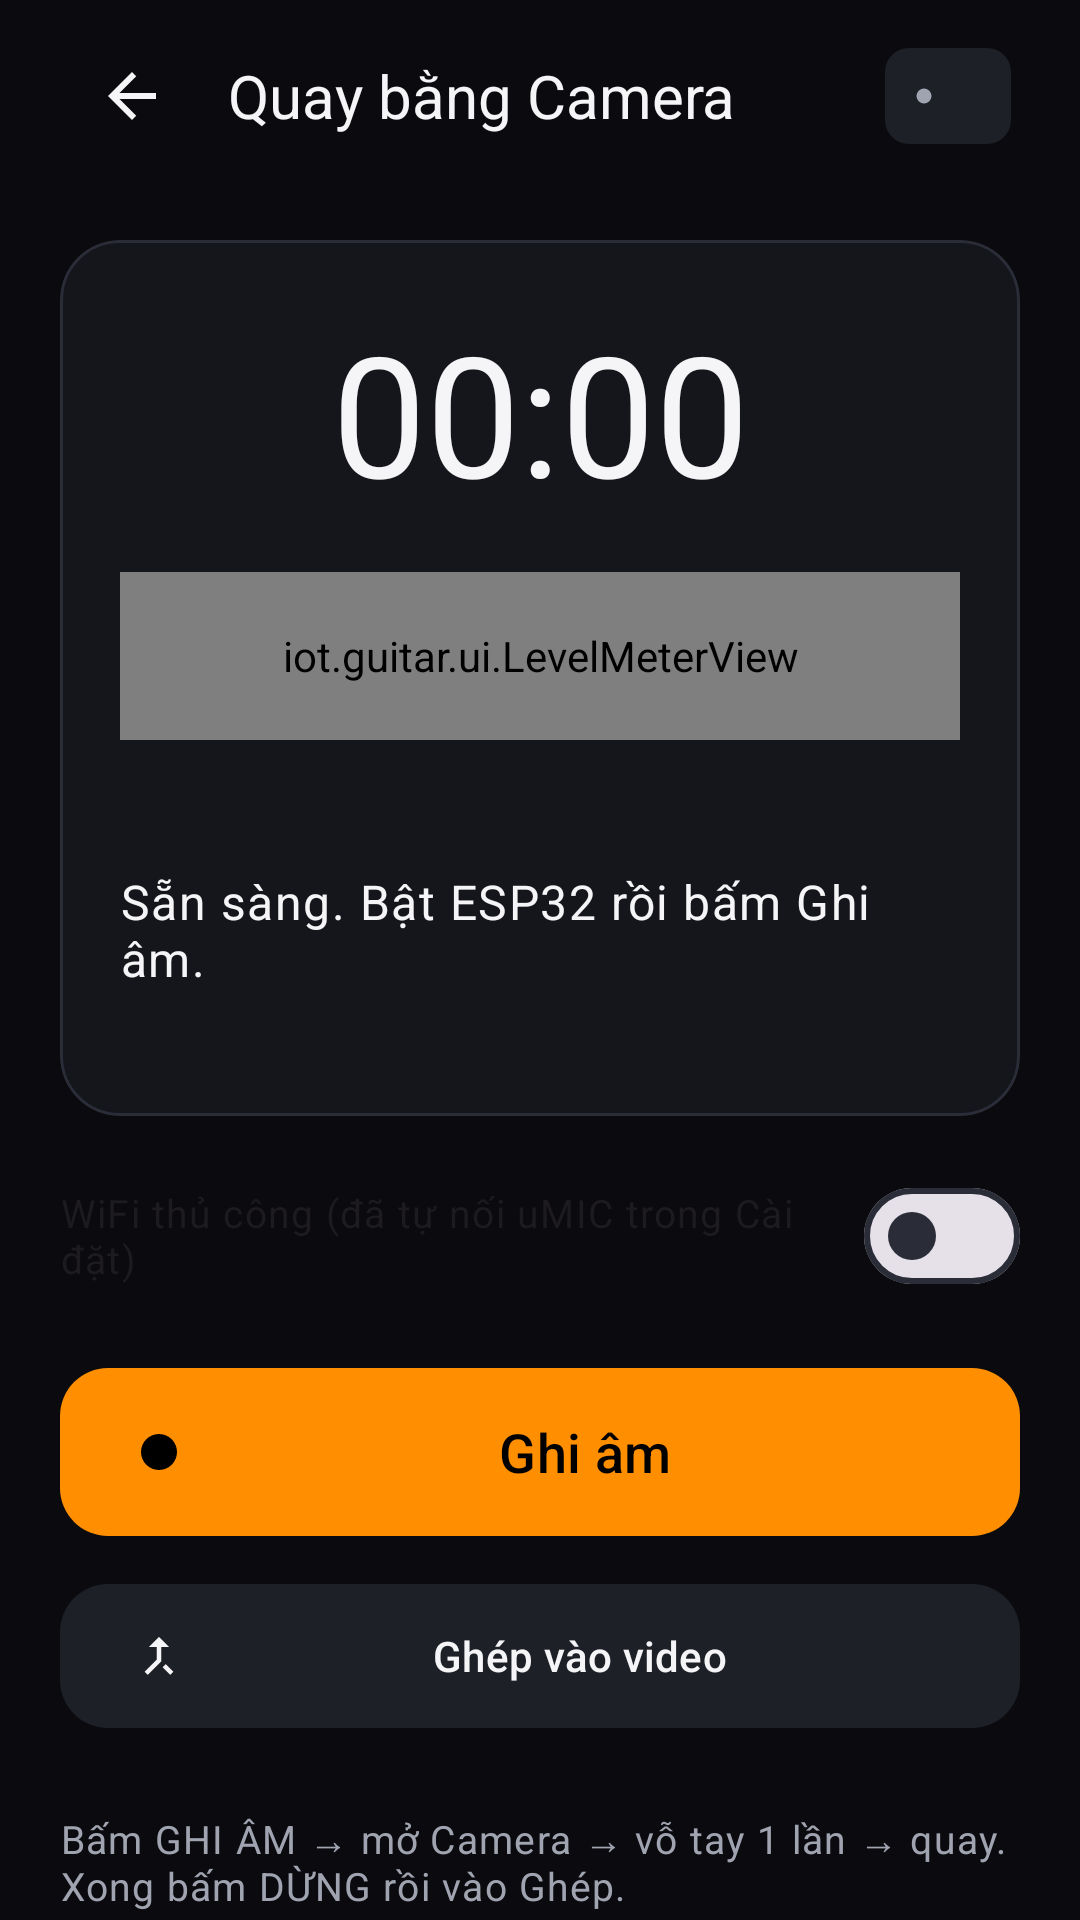

Icons on this 1080px x 1920px Android screen, each with the point to tap as (x,y):
Quay lại: (132,96)
